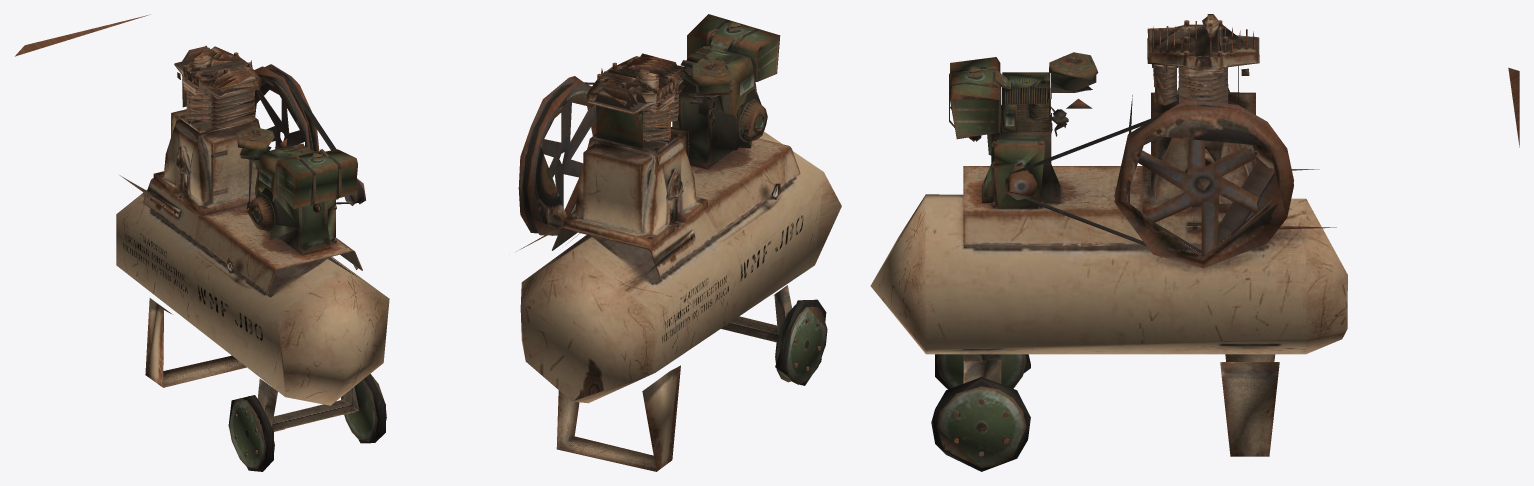
Rendered from old_military_compressor.glb.
The picture shows the model from 3 angles, left to right: view 1: azimuth 30°, elevation 25°; view 2: azimuth 150°, elevation 25°; view 3: azimuth 270°, elevation 25°; orthographic projection. The views are drawn at different scales.
Visible parts, largest first — view 1: old_military_compressor; view 2: old_military_compressor; view 3: old_military_compressor.
Boxes of the visible parts, left/top/right/bottom form: old_military_compressor: left=15, top=14, right=389, bottom=471; old_military_compressor: left=516, top=14, right=841, bottom=471; old_military_compressor: left=870, top=14, right=1519, bottom=471.
Bounding box in the file's own units: 0.5377 × 1.16 × 1.67.
Materials: 2 (2 with a texture image).
